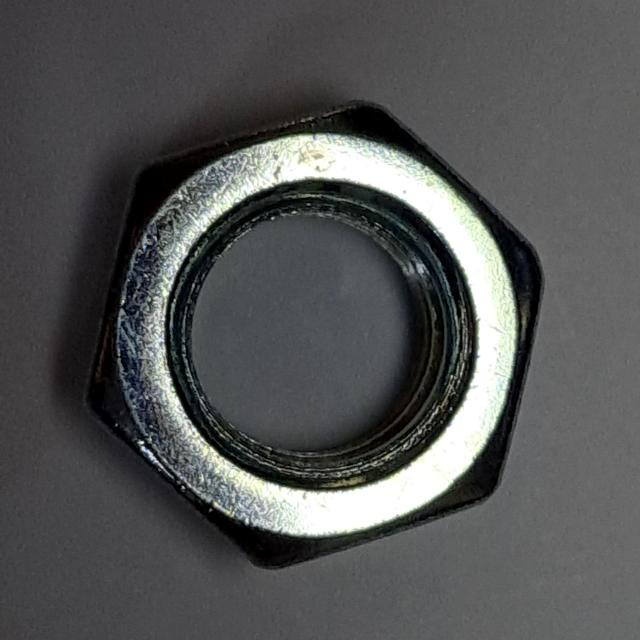Excellent: (70, 85, 550, 581)
